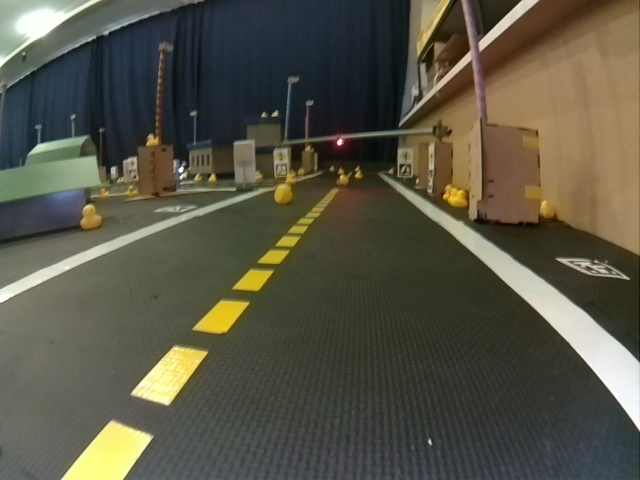Duckie: (82, 205, 100, 228), (275, 187, 292, 204), (541, 201, 554, 218), (454, 193, 467, 208), (444, 186, 452, 201), (126, 186, 136, 196), (145, 134, 154, 144), (99, 189, 108, 199), (209, 173, 218, 182), (337, 178, 347, 186), (195, 173, 202, 182)
QR code: (562, 256, 620, 280), (156, 204, 193, 213)
Traffic light: (335, 136, 342, 146)
